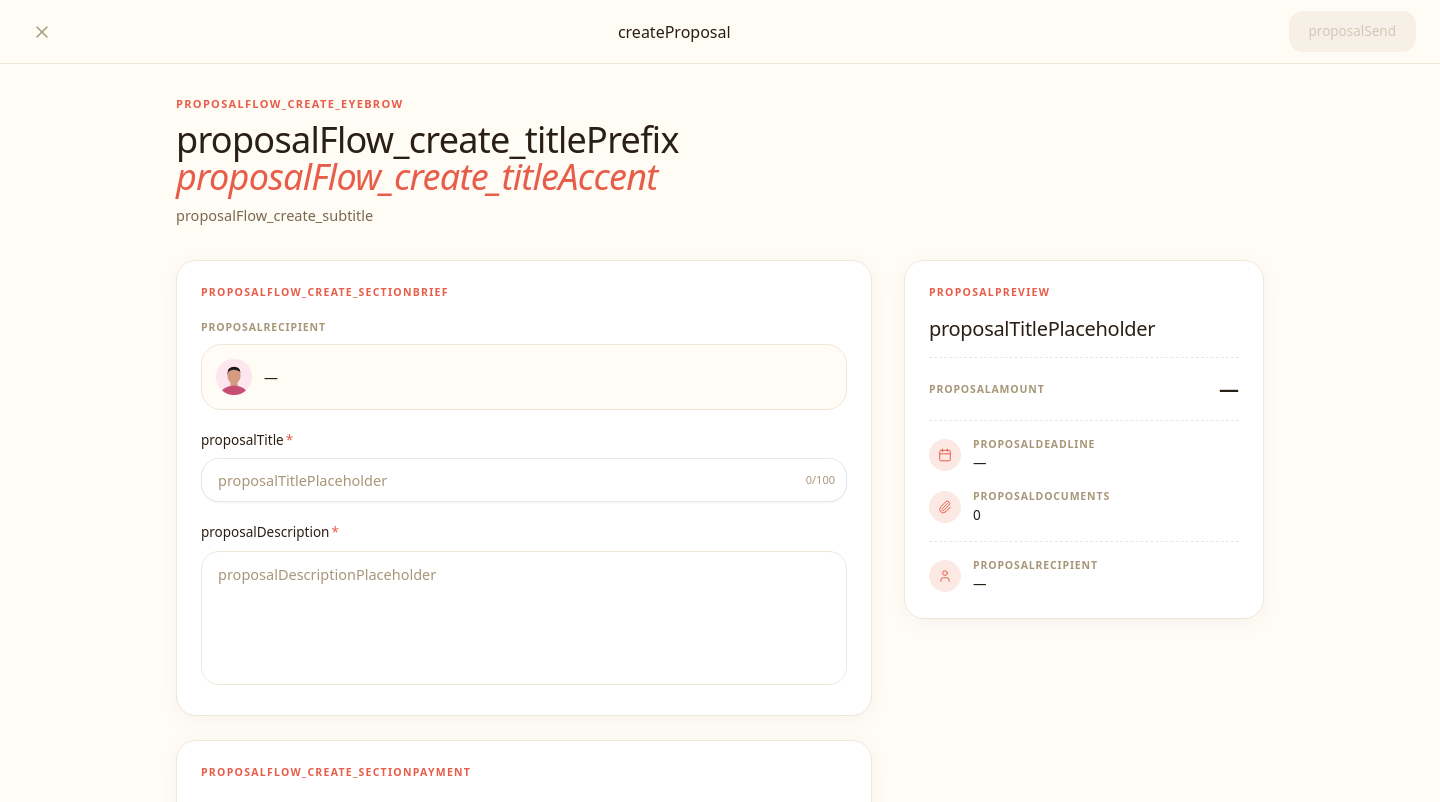
Test: CreateProposalPage › submit button is enabled when required fields are filled
Note: Fill in required fields
Type "Website redesign" into the field labelled "proposalTitle*" at (524, 480), box [201,458,847,502]
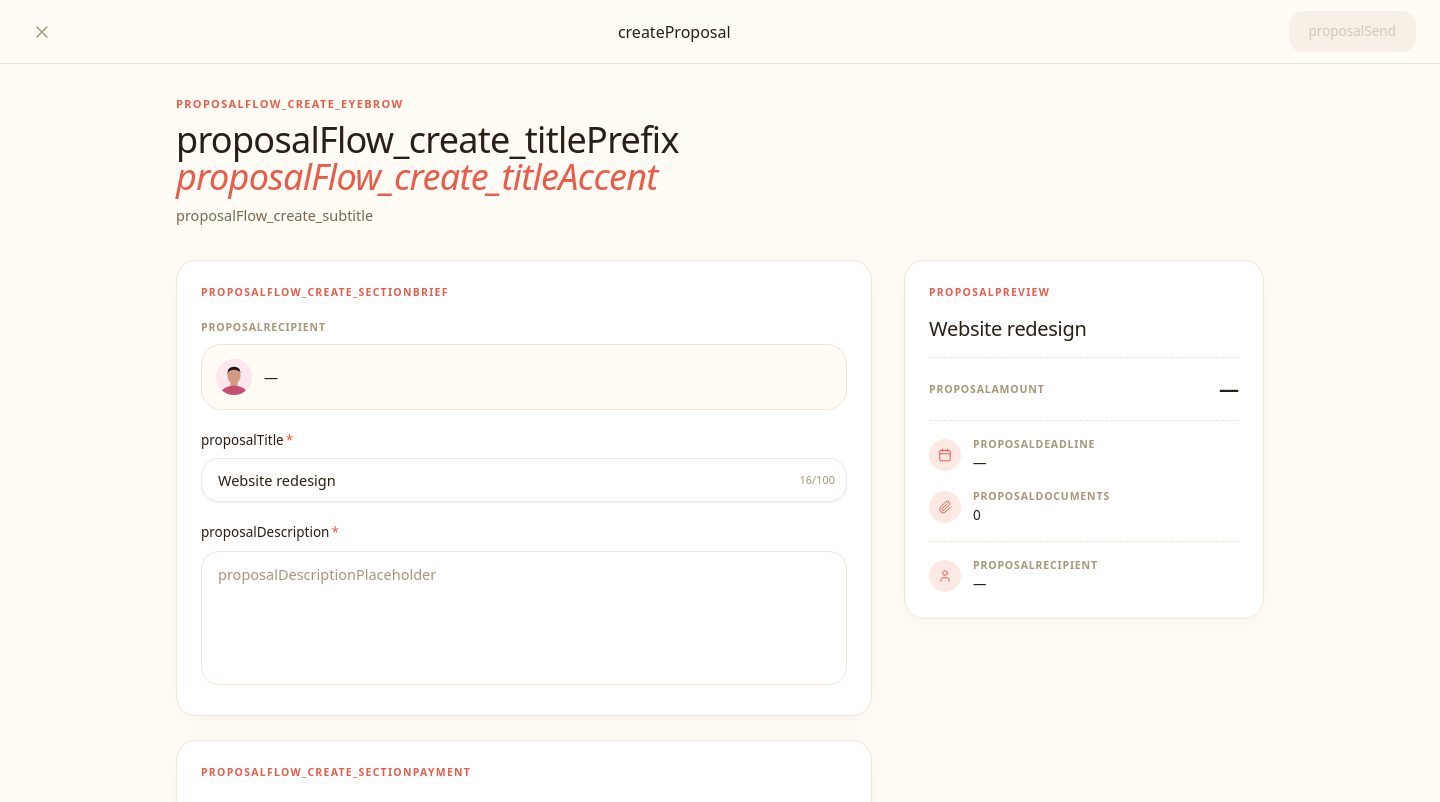
Type "Full redesign of the corporate website" into the text box labelled "proposalDescription*" at (524, 618), box [201,551,847,686]
(page scrolled)
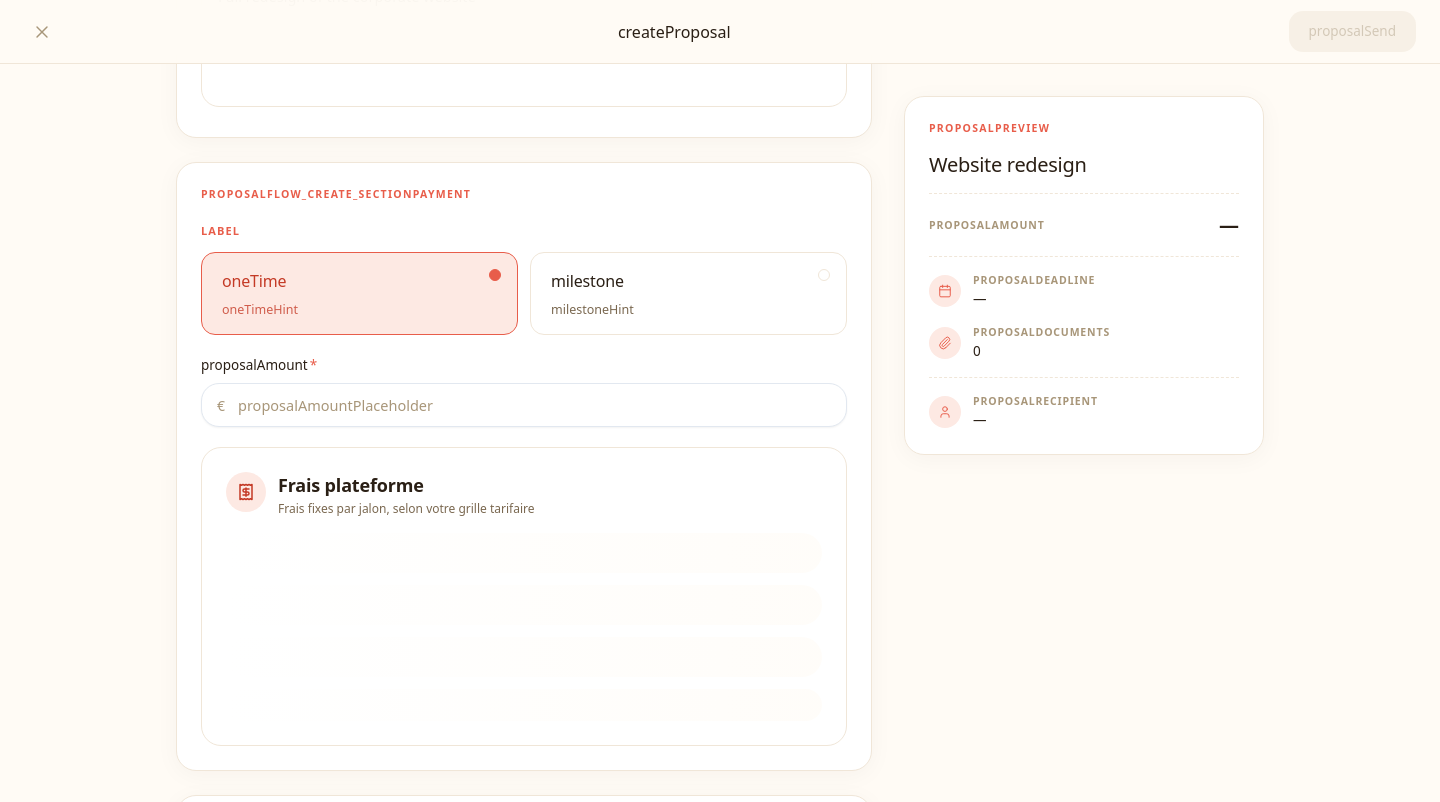
Type "5000" into the number field labelled "proposalAmount*" at (524, 405), box [201,383,847,427]
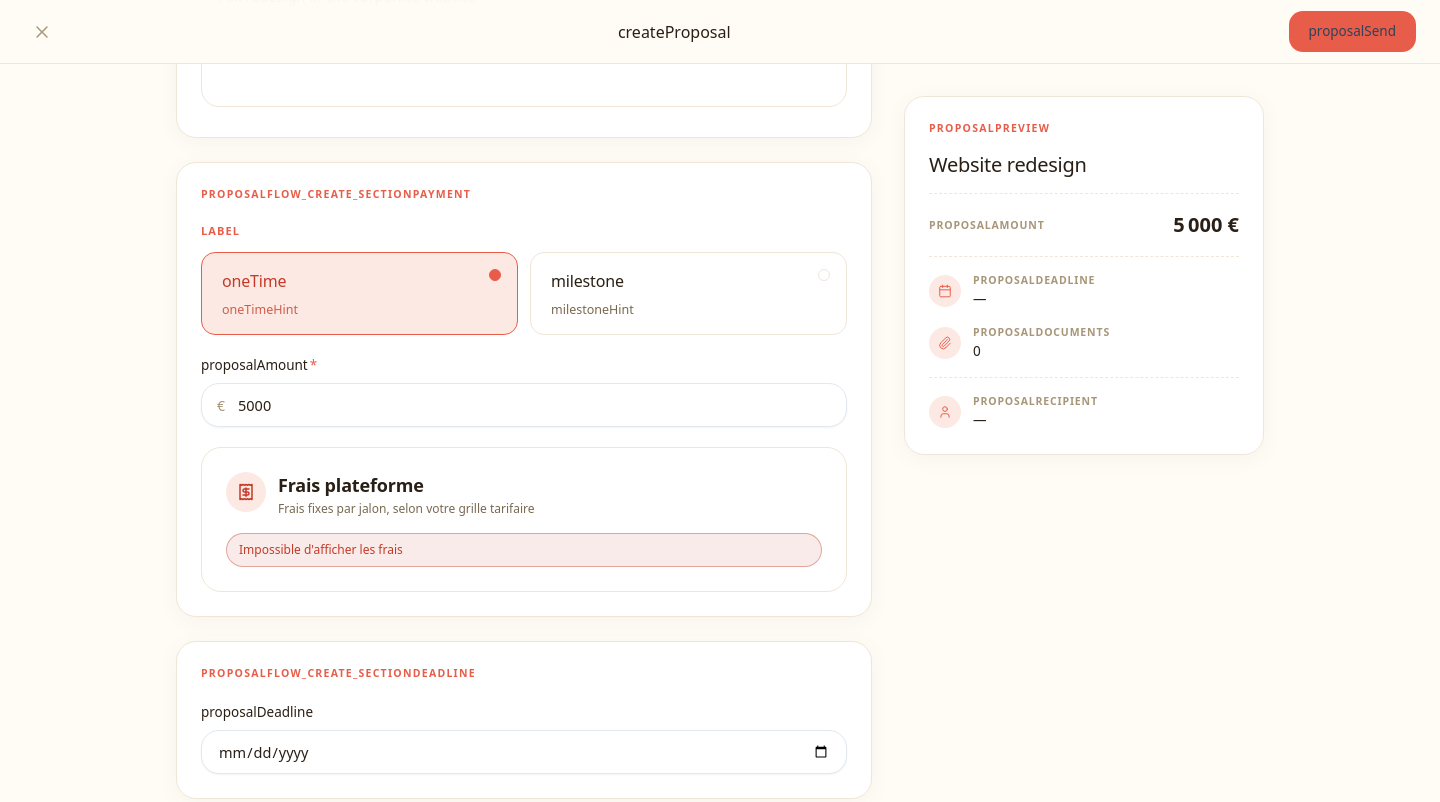
Expected: the button "proposalSend" is enabled, [1288,11,1416,52]
